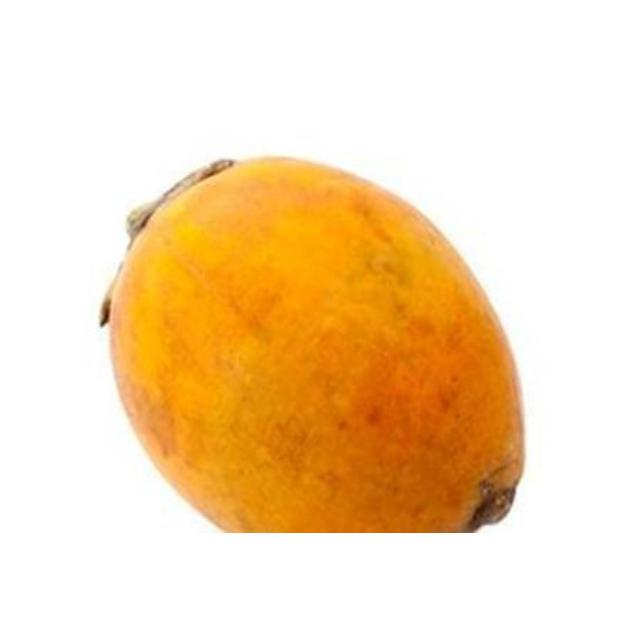good: (100, 158, 526, 532)
